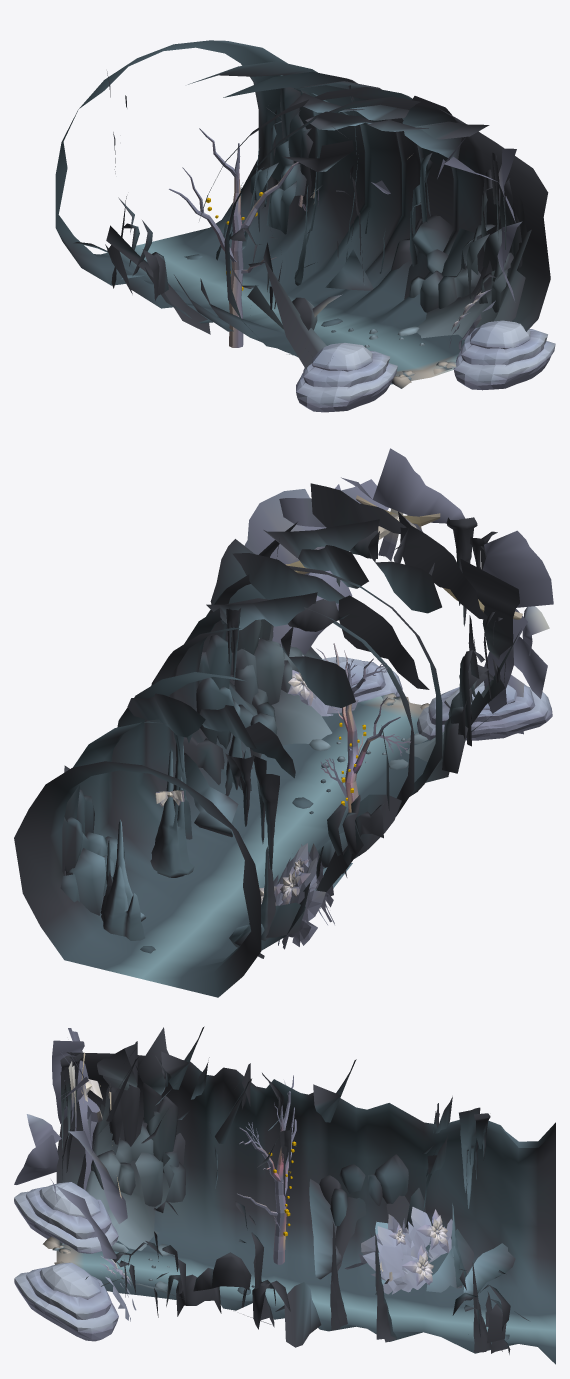
File: Arctic_Tunnels_Exit_A.glb
3 views of the same model, one above another, from view 1: azimuth 30°, elevation 25°; view 2: azimuth 150°, elevation 25°; view 3: azimuth 270°, elevation 25° (orthographic). The views are drawn at different scales.
Parts seen in each view (by area): view 1: Arctic_Tunnels_Exit_A_Reflection, TunnelRocks_Exit, Arctic_Narrows_Right_Snow_A01_Mid (×2), Arctic_Narrows_Right_Snow_A01_Top (×2), Arctic_Narrows_Right_Snow_A01 (1), Arctic_Narrows_Right_Snow_A01, Arctic_BirchA_holiday_multicolour, Arctic_Tunnels_Exit_A, Arctic_BirchA_branchesBottom_holiday_multicolour; view 2: Arctic_Tunnels_Exit_A_Reflection, TunnelRocks_Exit, Arctic_Tunnels_Exit_A, Arctic_Narrows_Right_Snow_A01 (1), Bush_A (1), Arctic_BirchA_holiday_multicolour, Arctic_Narrows_Right_Snow_A01_Mid, Arctic_BirchA_branchesBottom_holiday_multicolour; view 3: Arctic_Tunnels_Exit_A_Reflection, TunnelRocks_Exit, Arctic_Tunnels_Exit_A, Arctic_Narrows_Right_Snow_A01_Mid (×2), Arctic_Narrows_Right_Snow_A01_Top (×2), Bush_A, Arctic_Narrows_Right_Snow_A01, Arctic_Narrows_Right_Snow_A01 (1), Arctic_BirchA_holiday_multicolour, Bush_A (1), Arctic_Poinsettia_holiday (1), Arctic_Poinsettia_holiday (+4 smaller).
Part boxes in pixels (x1,y1,x2,y2): Arctic_Tunnels_Exit_A_Reflection: (55, 40, 550, 388); TunnelRocks_Exit: (73, 93, 489, 290); Arctic_Narrows_Right_Snow_A01_Mid (×2): (303, 327, 547, 387); Arctic_Narrows_Right_Snow_A01_Top (×2): (312, 320, 530, 371); Arctic_Narrows_Right_Snow_A01 (1): (296, 363, 397, 412); Arctic_Narrows_Right_Snow_A01: (453, 341, 555, 390); Arctic_BirchA_holiday_multicolour: (199, 128, 243, 347); Arctic_Tunnels_Exit_A: (121, 136, 522, 317); Arctic_BirchA_branchesBottom_holiday_multicolour: (169, 167, 276, 273); Arctic_Tunnels_Exit_A_Reflection: (14, 517, 520, 997); TunnelRocks_Exit: (127, 483, 519, 958); Arctic_Tunnels_Exit_A: (244, 448, 553, 890); Arctic_Narrows_Right_Snow_A01 (1): (417, 686, 552, 740); Bush_A (1): (278, 857, 325, 949); Arctic_BirchA_holiday_multicolour: (344, 650, 387, 812); Arctic_Narrows_Right_Snow_A01_Mid: (428, 684, 535, 724); Arctic_BirchA_branchesBottom_holiday_multicolour: (320, 697, 410, 797); Arctic_Tunnels_Exit_A_Reflection: (43, 1050, 555, 1364); TunnelRocks_Exit: (94, 1026, 515, 1347); Arctic_Tunnels_Exit_A: (14, 1028, 387, 1284); Arctic_Narrows_Right_Snow_A01_Mid (×2): (26, 1186, 111, 1319); Arctic_Narrows_Right_Snow_A01_Top (×2): (39, 1182, 100, 1299); Bush_A: (362, 1226, 428, 1294); Arctic_Narrows_Right_Snow_A01: (14, 1272, 118, 1341); Arctic_Narrows_Right_Snow_A01 (1): (14, 1191, 118, 1253); Arctic_BirchA_holiday_multicolour: (273, 1075, 293, 1264); Bush_A (1): (396, 1207, 452, 1262); Arctic_Poinsettia_holiday (1): (416, 1209, 448, 1253); Arctic_Poinsettia_holiday: (402, 1245, 433, 1285).
Size of what is drawn, in the model's own units: 11.04 by 11.66 by 18.72.
